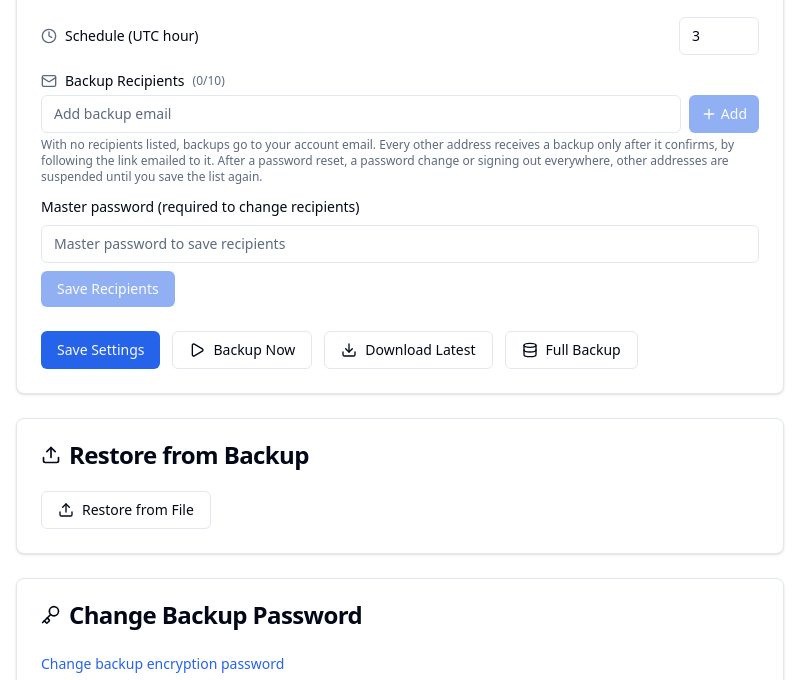
Test case: the Full Backup panel › counts down a pause the server asked for while the backup runs
(page scrolled)
Check: the button "Restore from File" is shown, box [41, 491, 211, 529]
Click the button "Full Backup": point(571, 350) [504, 331, 638, 369]
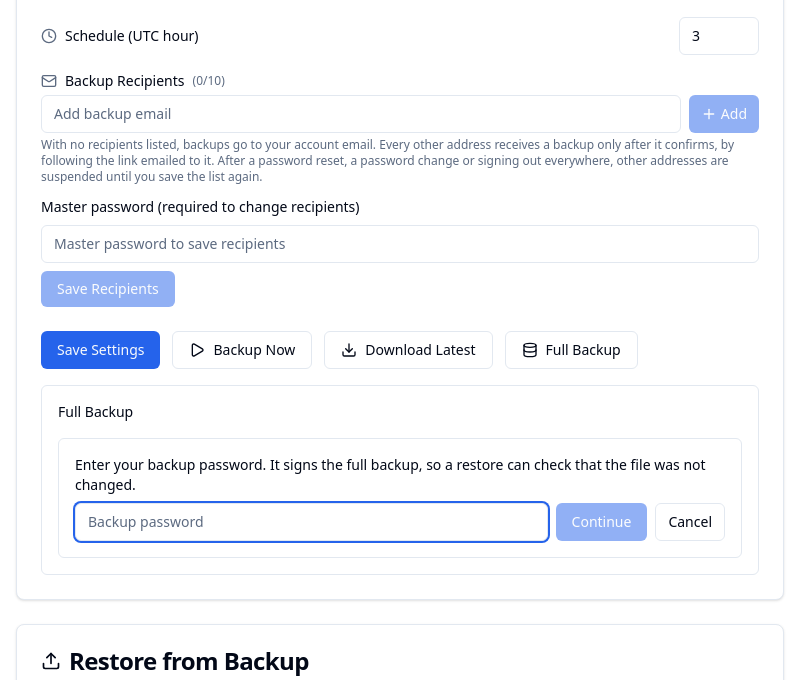
In the password field named "Backup password for the full backup": point(311, 522) [75, 503, 548, 541], type "BackupPass!"
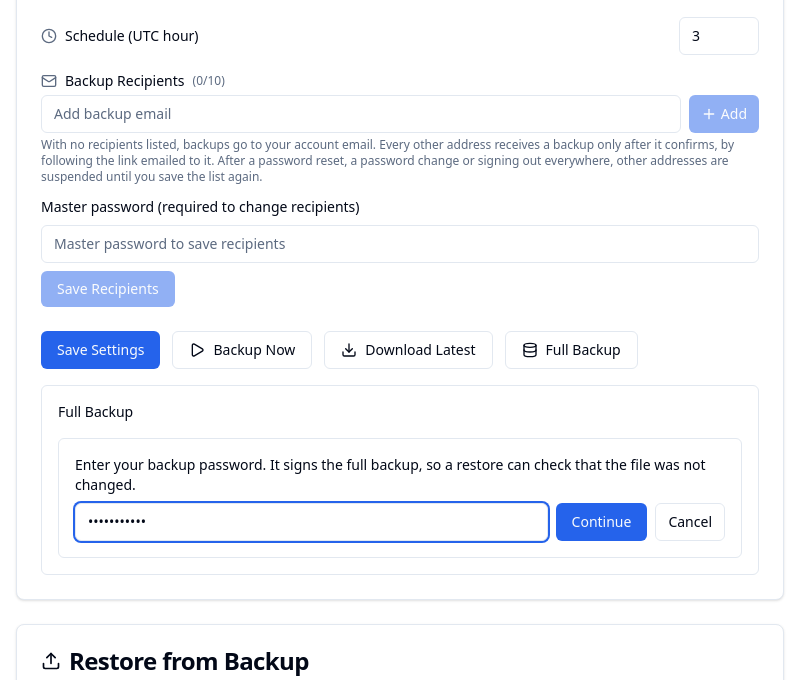
Click the button "Continue": point(602, 522) [556, 503, 647, 541]
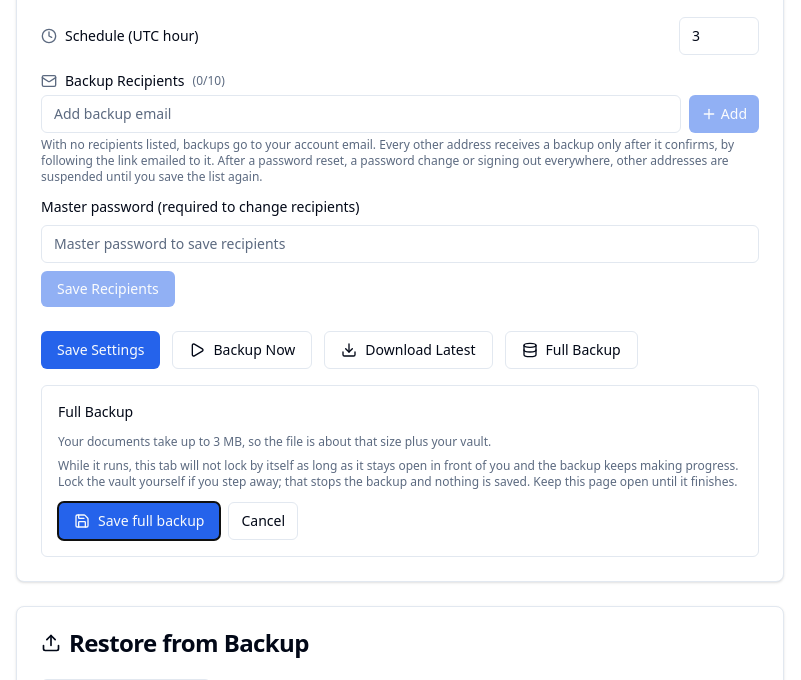
Click the button "Save full backup": point(139, 521) [58, 502, 220, 540]
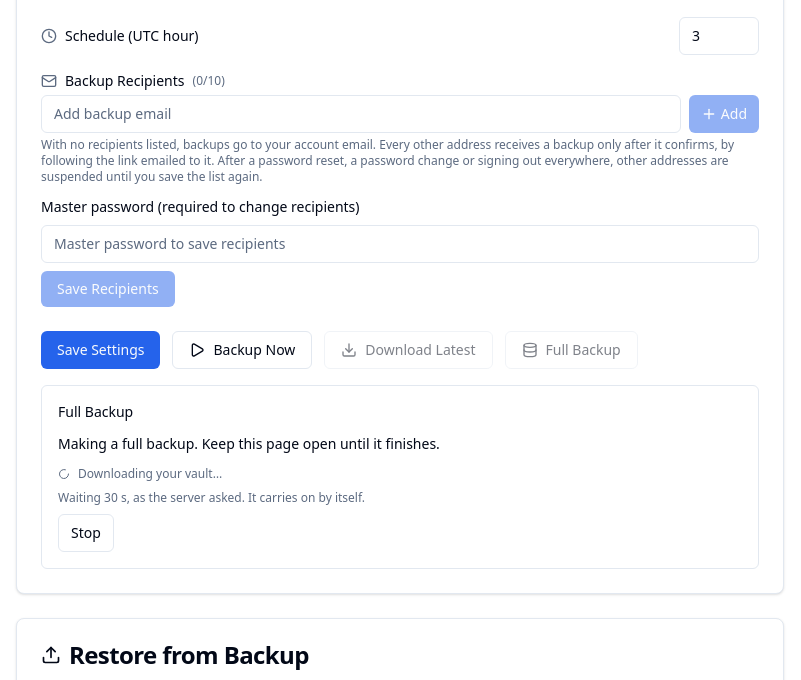
Check: the element with test id "full-backup-current" reads "Downloading your vault…", box [78, 465, 222, 482]
Check: the text "Waiting 30 s, as the server asked. It carries on by itself." is shown, box [58, 489, 365, 506]
